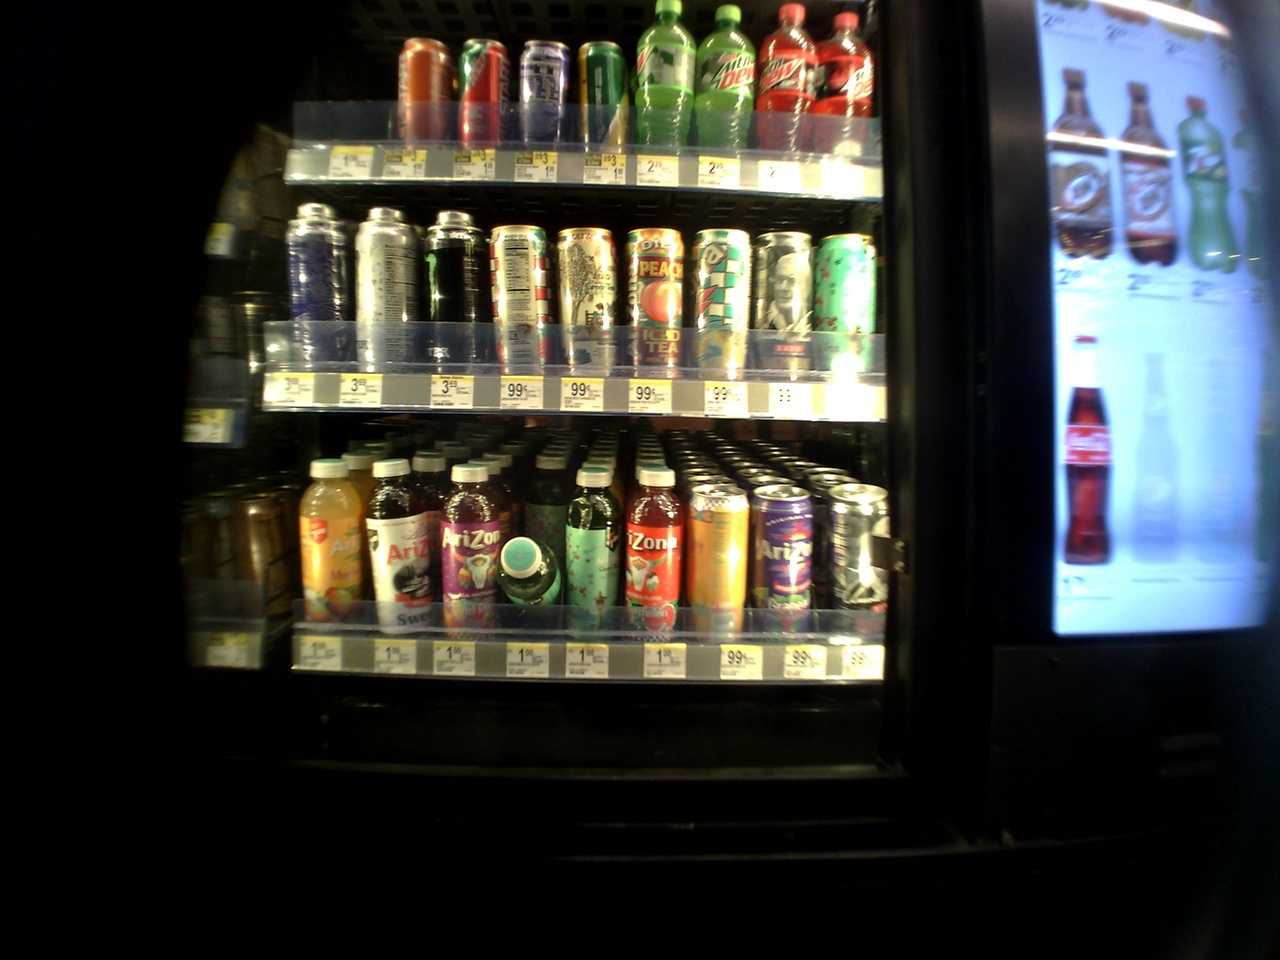shelf: (201, 419, 889, 677), (251, 189, 869, 424), (288, 0, 883, 198)
